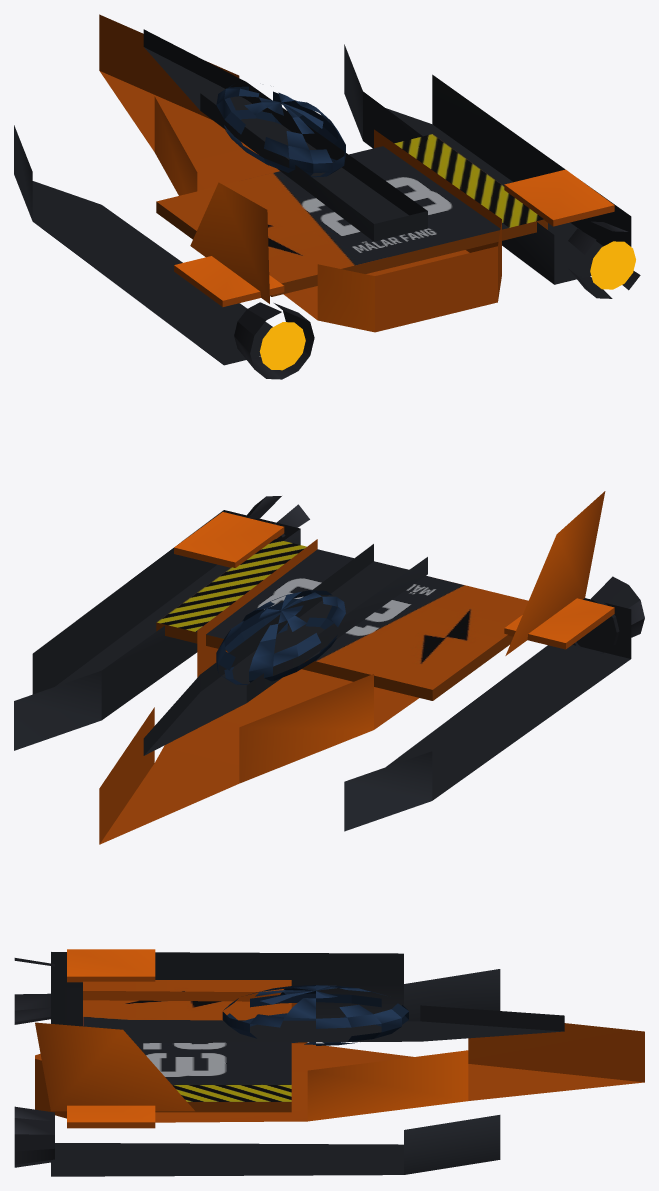
The model's file is craft_3.glb.
The picture shows the model from 3 angles, top to bottom: view 1: azimuth 30°, elevation 25°; view 2: azimuth 150°, elevation 25°; view 3: azimuth 270°, elevation 25°; orthographic projection. The views are drawn at different scales.
Parts seen in each view (by area): view 1: craft_3_body, flap_R_plate.003, flap_L_plate.003; view 2: craft_3_body, flap_R_plate.003, flap_L_plate.003; view 3: craft_3_body, flap_L_plate.003, flap_R_plate.003.
Part boxes in pixels (<box>): craft_3_body: <box>14,14,640,379</box>; flap_R_plate.003: <box>504,169,614,226</box>; flap_L_plate.003: <box>174,256,284,306</box>; craft_3_body: <box>14,491,644,844</box>; flap_R_plate.003: <box>174,512,284,567</box>; flap_L_plate.003: <box>504,598,614,649</box>; craft_3_body: <box>14,952,644,1176</box>; flap_L_plate.003: <box>67,949,155,982</box>; flap_R_plate.003: <box>67,1105,155,1128</box>.
Bounding box in the file's own units: 5.3 × 2.02 × 7.86.
6 materials, 1 textured.
